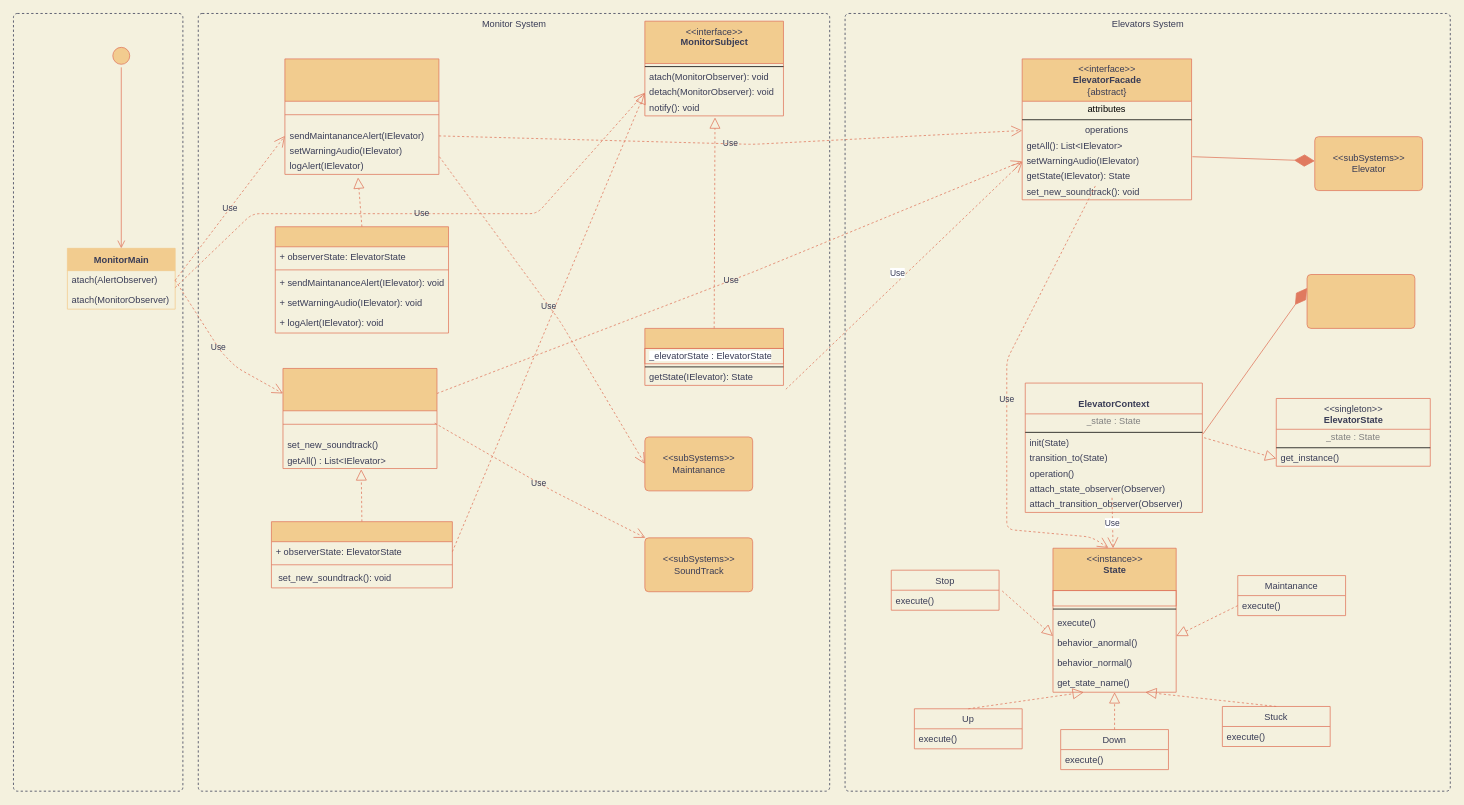
Some shapes in this 1464 by 805 pixel diagram are drawn without their labels. The shapes that lost their labels are listed below. From the top down, each one's box as (x1, y1, x2, y2) in pixels, then its label:
(284, 58, 439, 174): <<interface>> AlertObserver
(275, 226, 449, 333): AlertMonitorObserver
(1306, 274, 1415, 328): <<subSystems>> Observer
(644, 328, 783, 385): ElevatorMonitorSubject
(13, 13, 183, 791): FrontEnd
(282, 368, 437, 469): <<interface>> MonitorObserver
(271, 521, 452, 588): ElevatorMonitorObserver
(1052, 590, 1176, 606): _context : ElevatorContext
